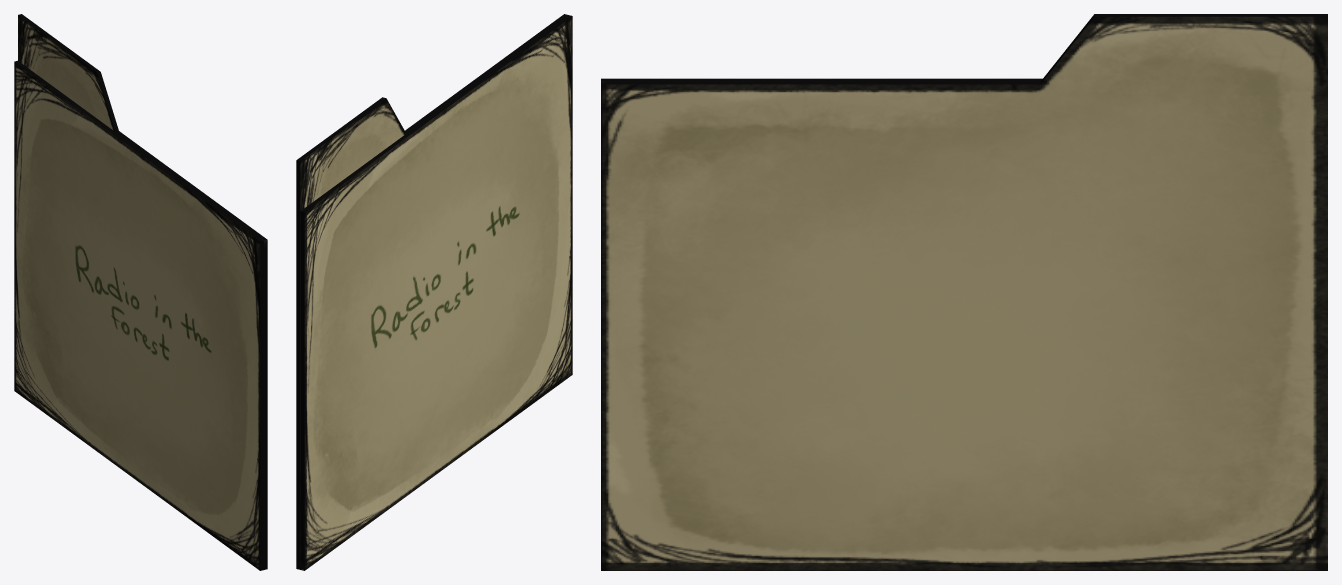
File: folder_forestersimulator.fbx
3 renders of one model, left to right at view 1: azimuth 30°, elevation 25°; view 2: azimuth 150°, elevation 25°; view 3: azimuth 270°, elevation 25°, orthographic. The views are drawn at different scales.
Visible parts, largest first — view 1: folder_front.009, folder_forestersimulator; view 2: folder_front.009, folder_forestersimulator; view 3: folder_forestersimulator, folder_front.009.
Part boxes in pixels (x1=…): folder_front.009: x1=14, y1=60, x2=263, y2=570; folder_forestersimulator: x1=18, y1=14, x2=267, y2=569; folder_front.009: x1=300, y1=15, x2=572, y2=570; folder_forestersimulator: x1=296, y1=14, x2=567, y2=569; folder_forestersimulator: x1=601, y1=14, x2=1327, y2=570; folder_front.009: x1=601, y1=78, x2=1042, y2=81.
Bounding box in the file's own units: 0.0113 × 0.5374 × 0.6385.
Materials: 2 (2 with a texture image).
